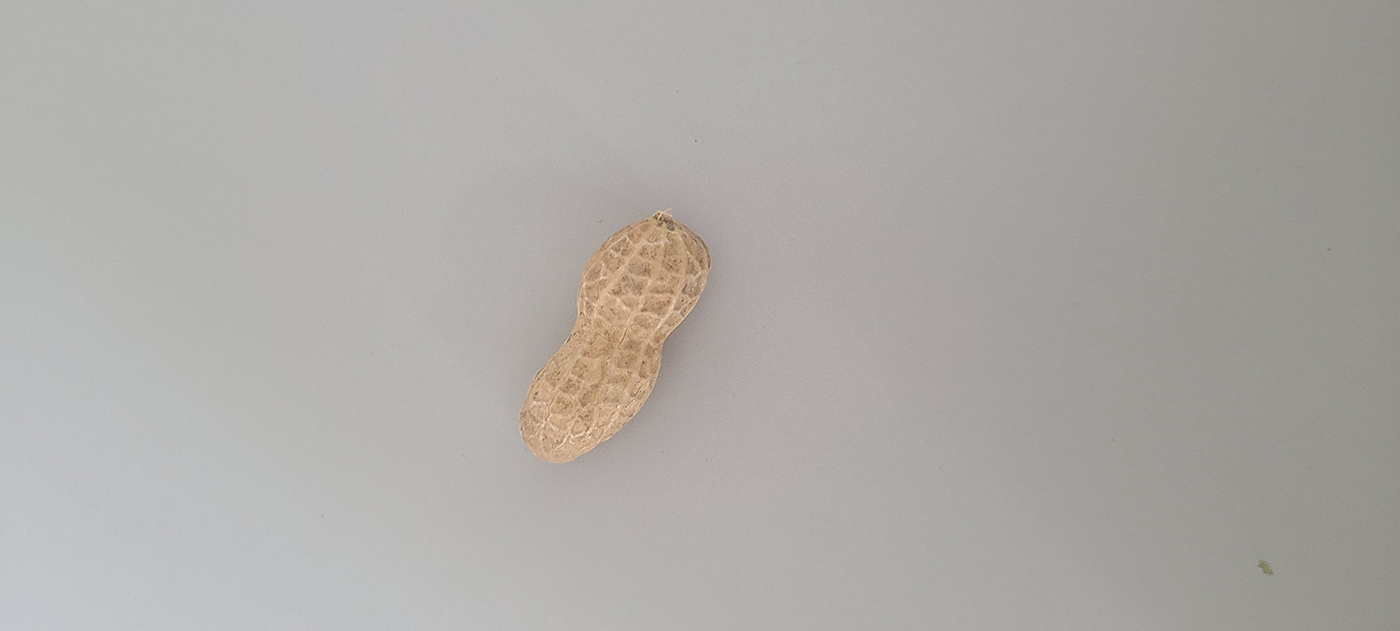h: (518, 211, 709, 460)
